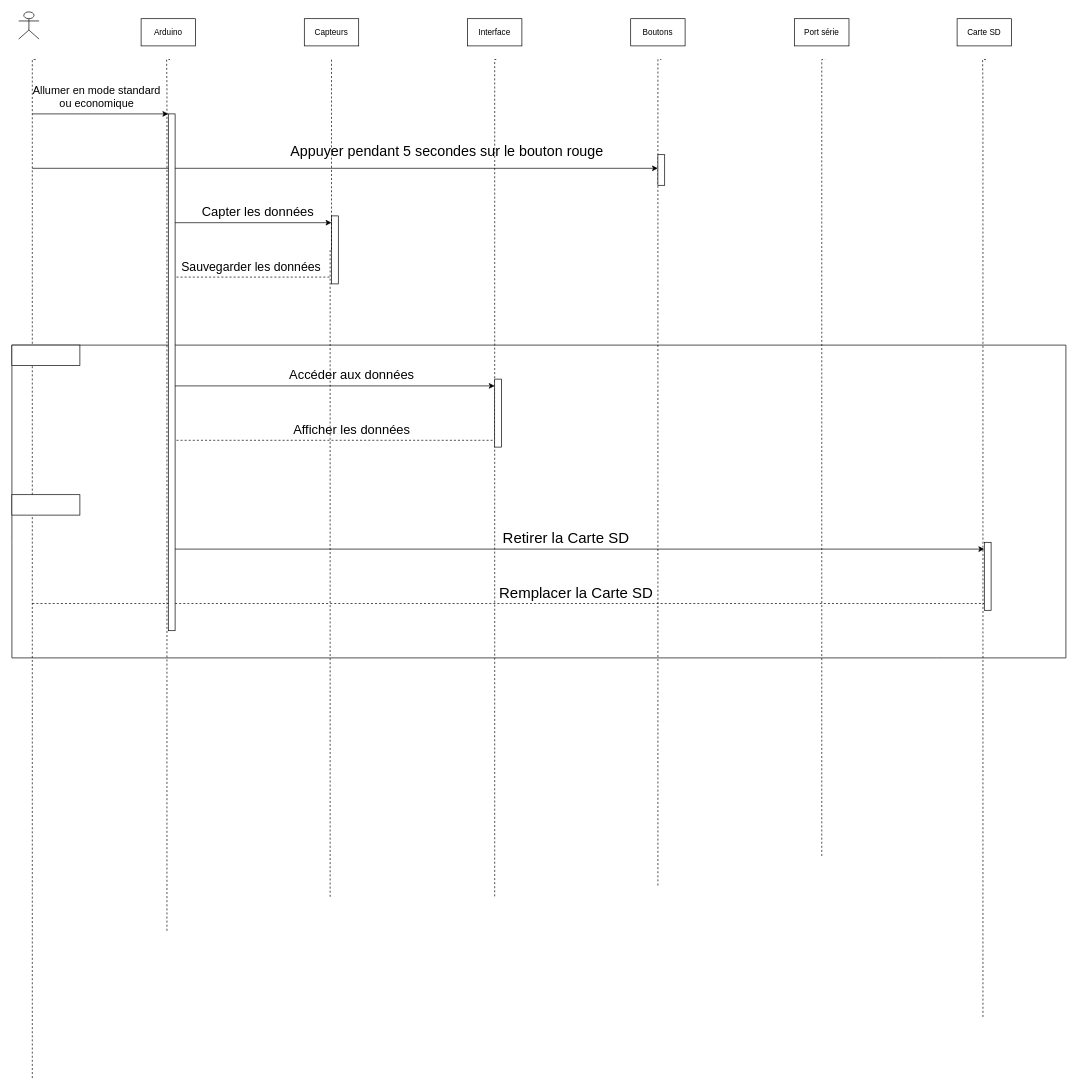
This 1078x1091 diagram has some shape labels left out. The shapes that lost their labels are listed below. From the top down, each one's centre as x and y in pixels, then its label:
point 28,25: utilisateur
point 45,355: Alt
point 45,504: Sinon
